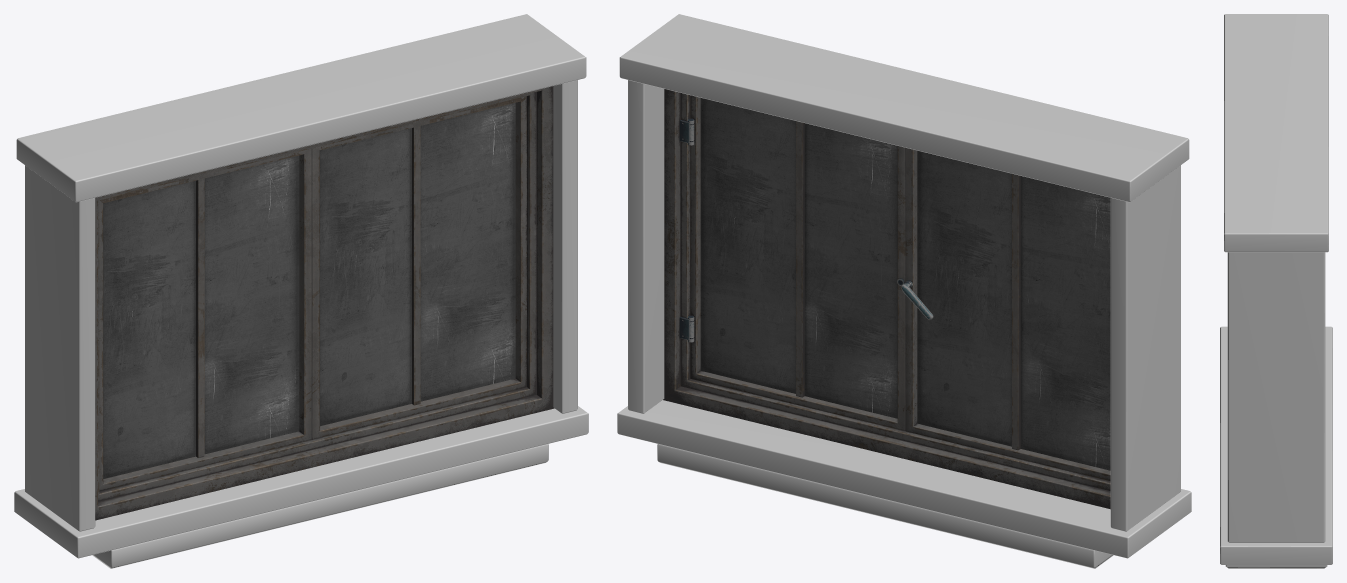
File: Window_frame.fbx
The picture shows the model from 3 angles, left to right: view 1: azimuth 30°, elevation 25°; view 2: azimuth 150°, elevation 25°; view 3: azimuth 270°, elevation 25°; orthographic projection. The views are drawn at different scales.
Visible parts, largest first — view 1: Window1_Glass1, Window_single, Window_frame; view 2: Window_single, Window1_Glass1, Window_frame; view 3: Window_single.
Boxes of the visible parts, x1,y1,x2,y2 form: Window1_Glass1: (103,102,515,478); Window_single: (14,14,588,568); Window_frame: (95,86,554,520); Window_single: (617,14,1191,568); Window1_Glass1: (700,98,1110,470); Window_frame: (663,89,1110,509); Window_single: (1220,14,1332,568).
Bounding box in the file's own units: 224 × 167 × 48.57.
